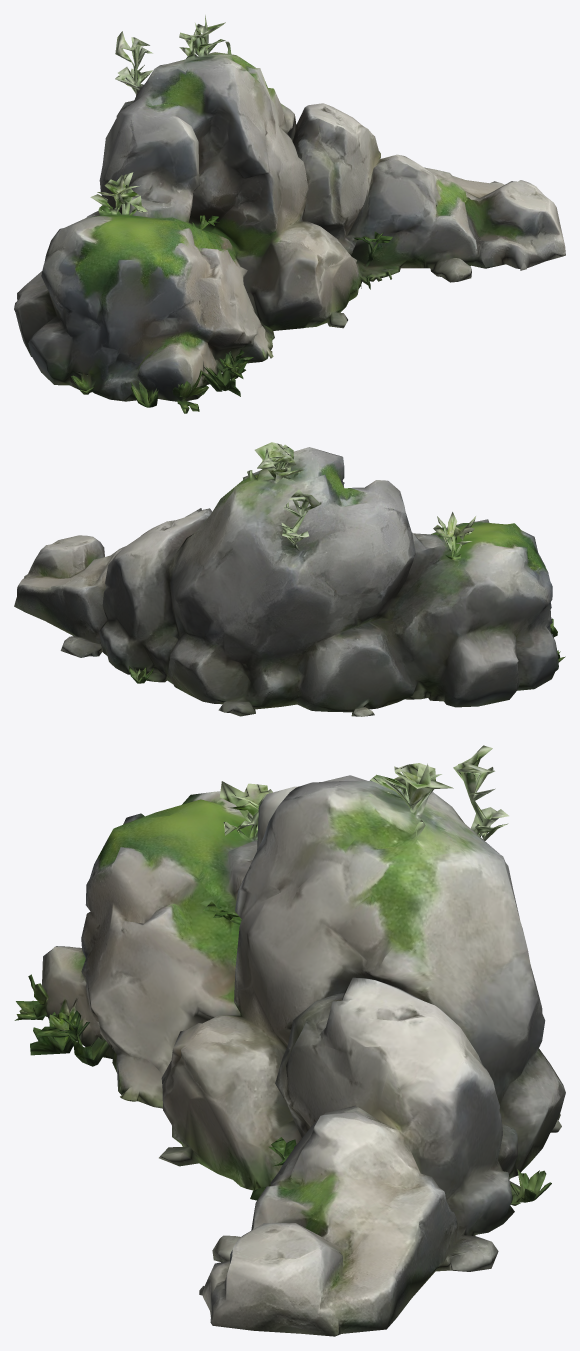
3 renders of one model, top to bottom at view 1: azimuth 30°, elevation 25°; view 2: azimuth 150°, elevation 25°; view 3: azimuth 270°, elevation 25°, orthographic. The views are drawn at different scales.
Visible parts, largest first — view 1: tripo_node_7855eaa8-2029-4d9c-a807-9b5c8eb967f5; view 2: tripo_node_7855eaa8-2029-4d9c-a807-9b5c8eb967f5; view 3: tripo_node_7855eaa8-2029-4d9c-a807-9b5c8eb967f5.
Part boxes in pixels (x1,y1,x2,y2): tripo_node_7855eaa8-2029-4d9c-a807-9b5c8eb967f5: (14,15,565,413); tripo_node_7855eaa8-2029-4d9c-a807-9b5c8eb967f5: (14,442,565,716); tripo_node_7855eaa8-2029-4d9c-a807-9b5c8eb967f5: (14,745,565,1336).
Size of the model in its own units: 0.979 by 0.4409 by 0.6039.
1 material, 1 textured.
